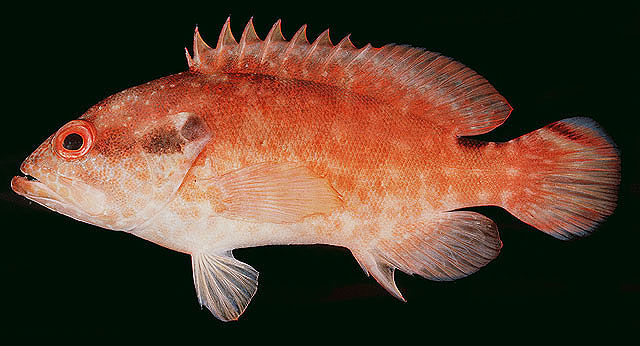fish: (10, 17, 620, 319)
